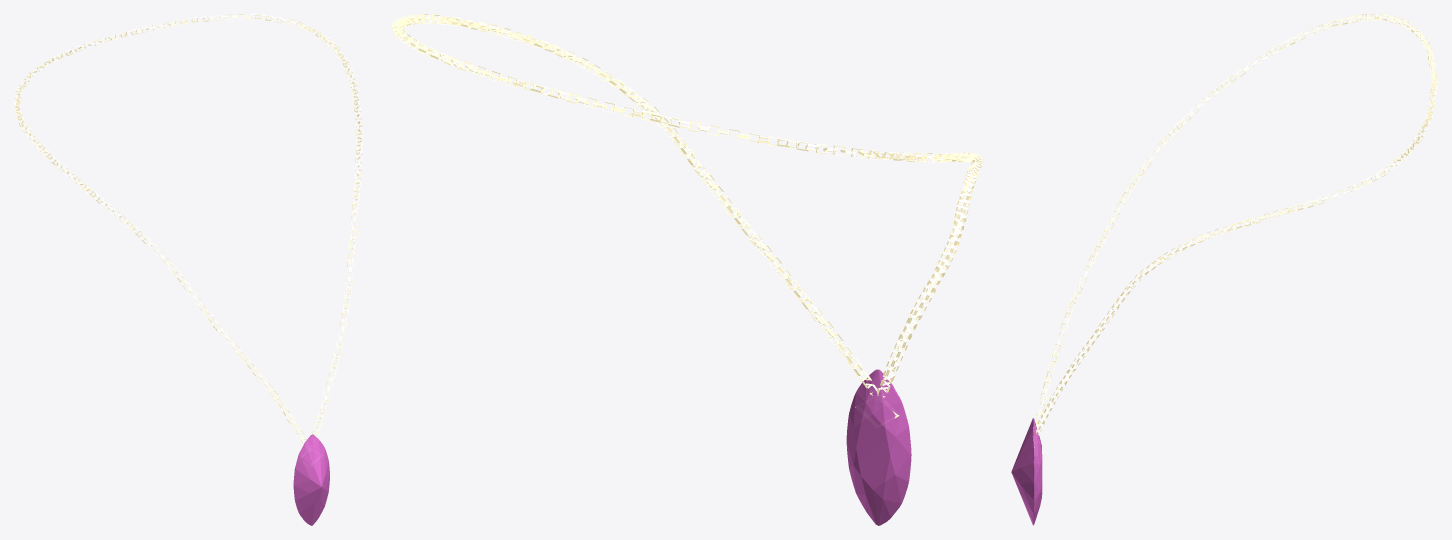
File: neckONE4.glb
The picture shows the model from 3 angles, left to right: view 1: azimuth 30°, elevation 25°; view 2: azimuth 150°, elevation 25°; view 3: azimuth 270°, elevation 25°; orthographic projection. The views are drawn at different scales.
Visible parts, largest first — view 1: Neclace_Silver_0, Gem; view 2: Neclace_Silver_0, Gem; view 3: Neclace_Silver_0, Gem.
Part boxes in pixels (x1,y1,x2,y2): Neclace_Silver_0: [14, 14, 362, 445]; Gem: [293, 434, 329, 525]; Neclace_Silver_0: [391, 14, 982, 418]; Gem: [846, 369, 911, 525]; Neclace_Silver_0: [1033, 14, 1437, 452]; Gem: [1011, 418, 1042, 525].
Size of the model in its own units: 171 by 193 by 170.
